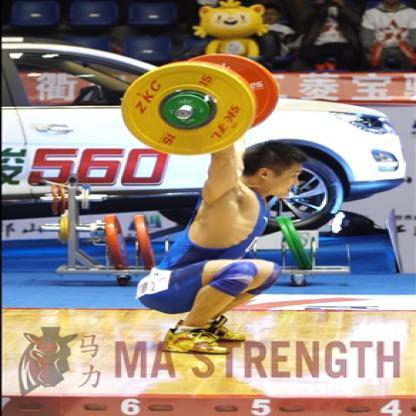barbell: (119, 51, 282, 157)
